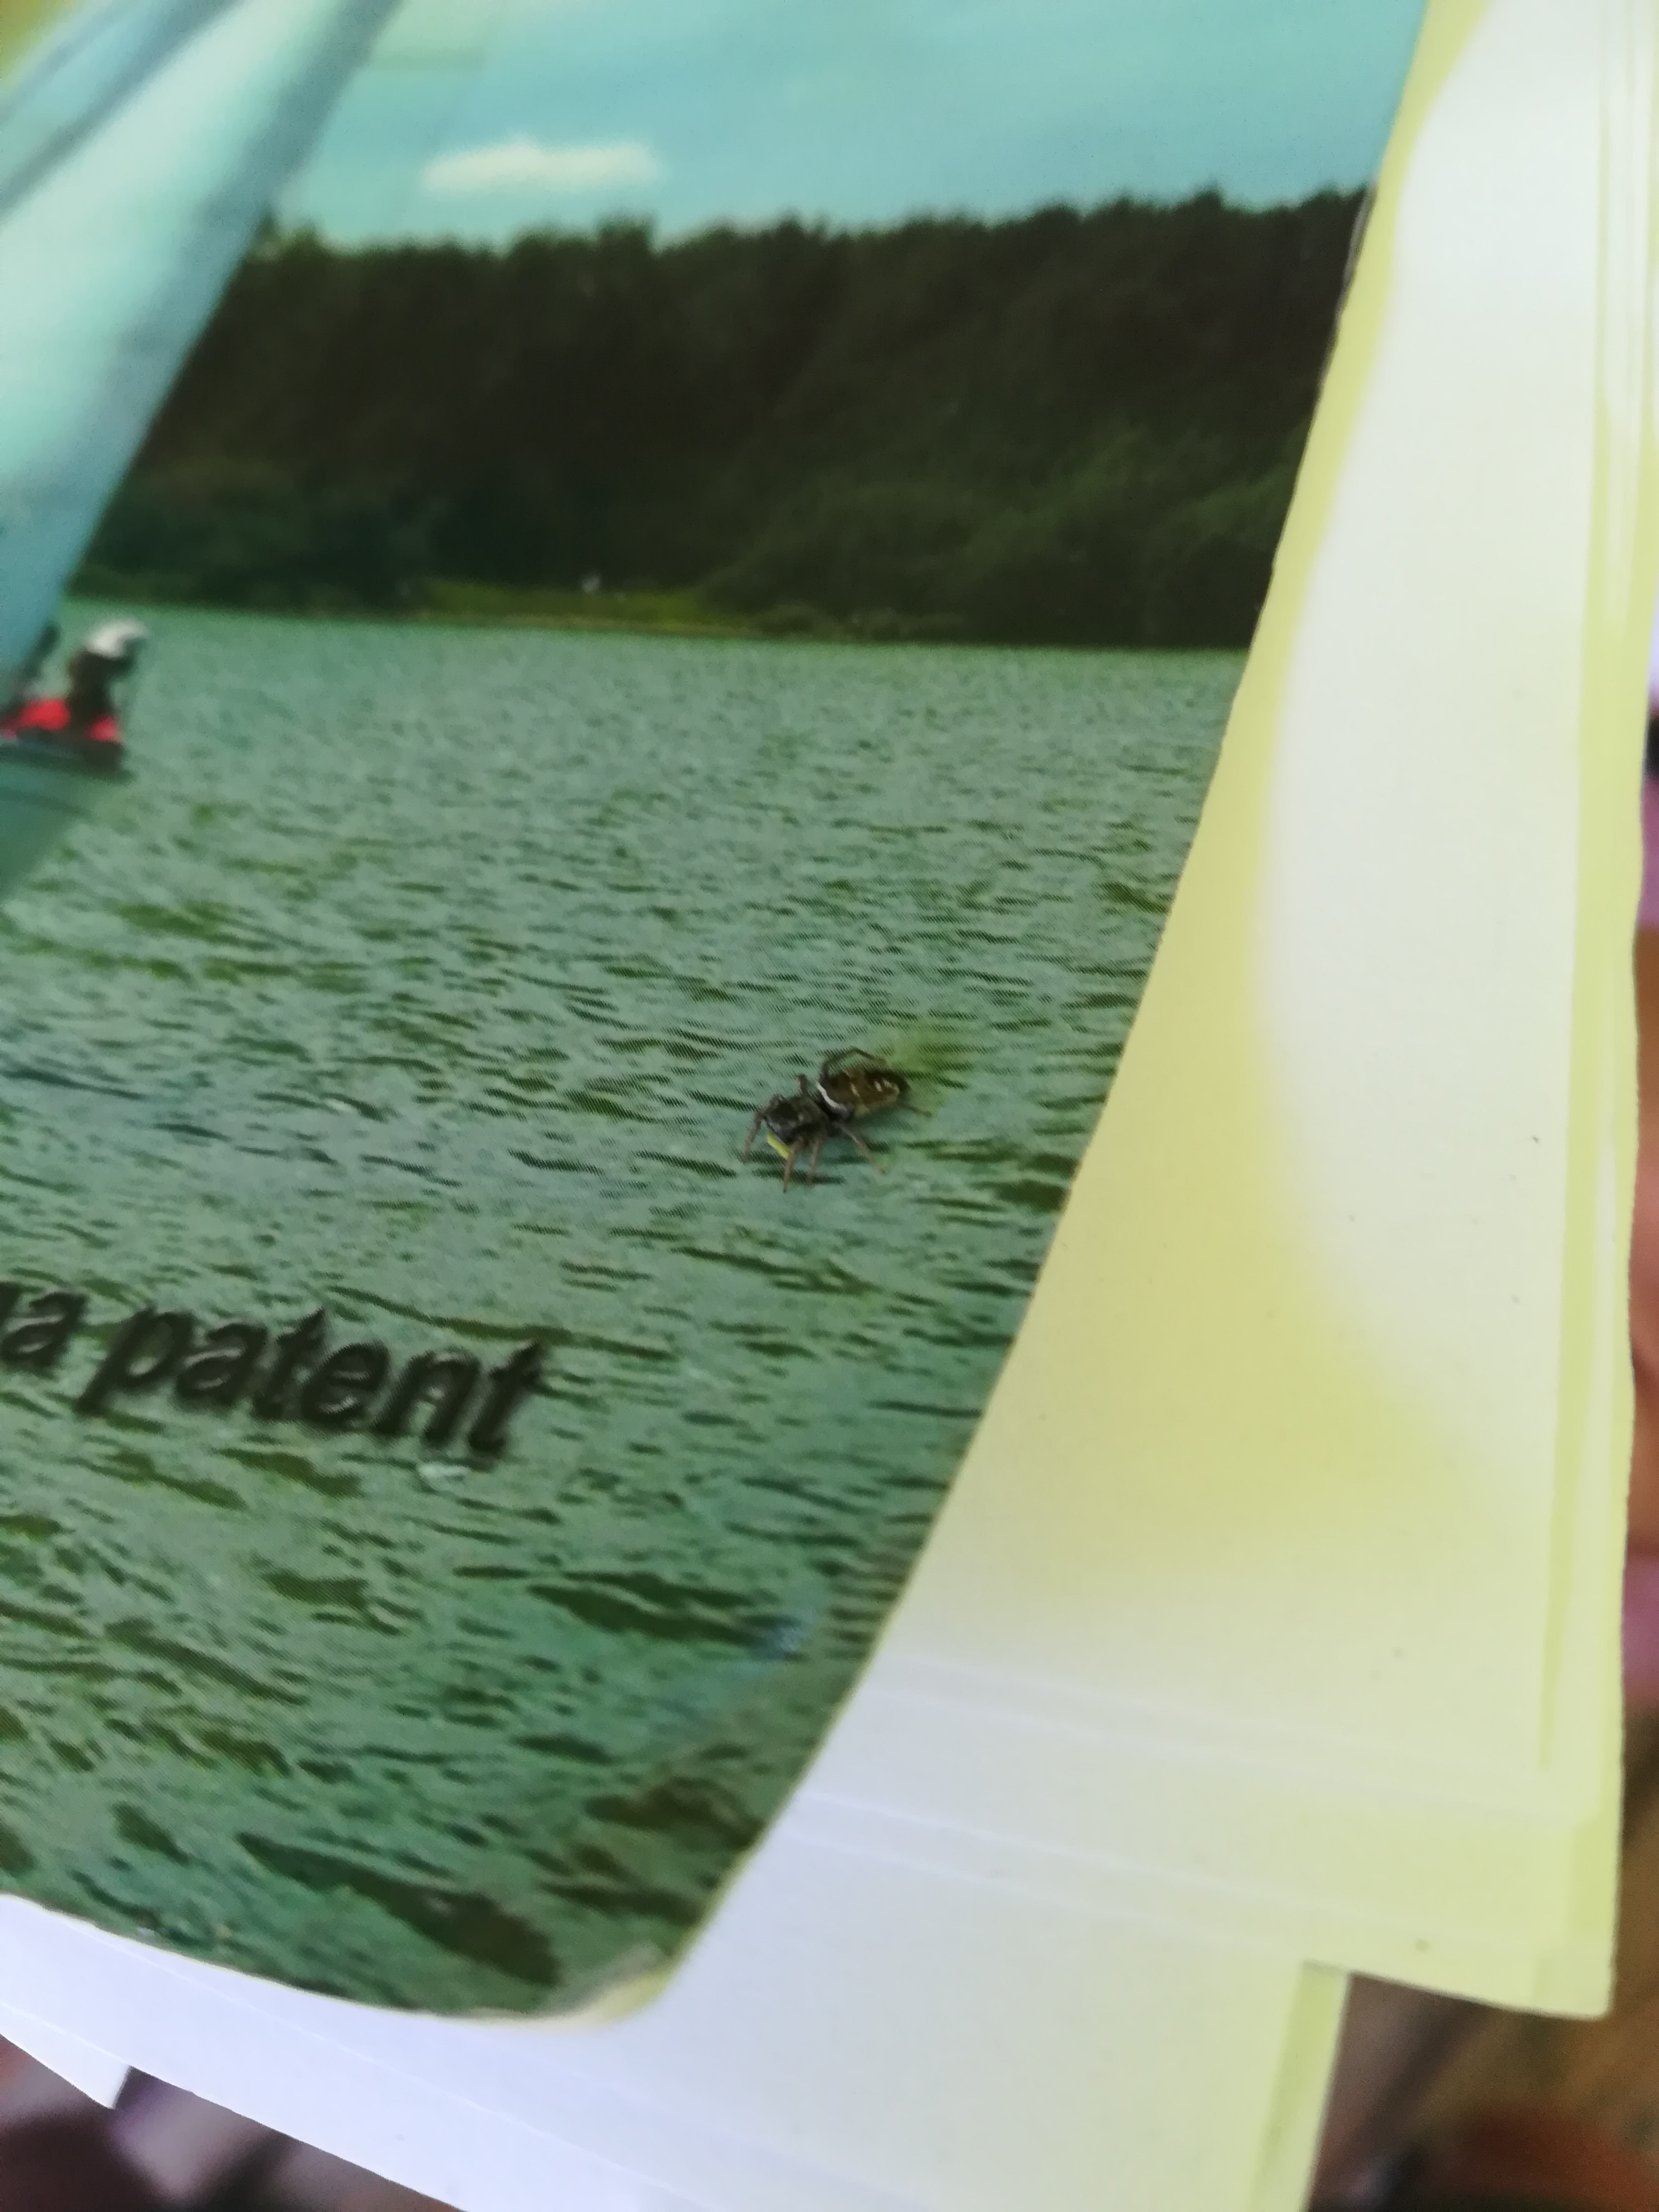spider: (694, 984, 965, 1211)
